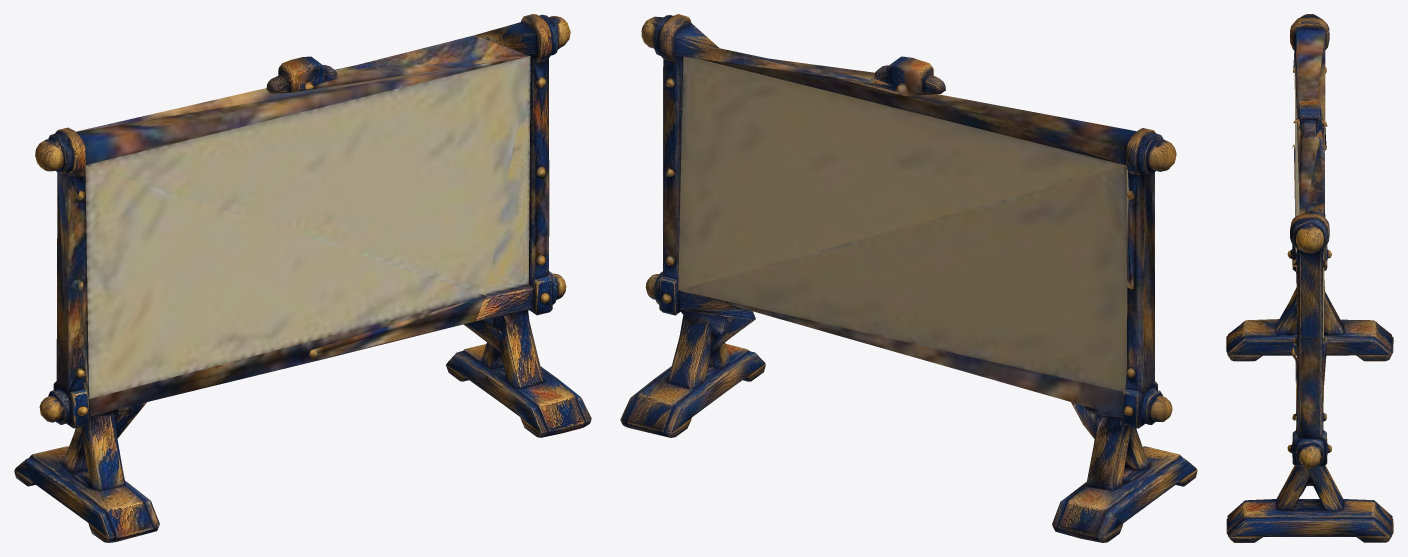
Rendered from scherm3d.glb.
The picture shows the model from 3 angles, left to right: view 1: azimuth 30°, elevation 25°; view 2: azimuth 150°, elevation 25°; view 3: azimuth 270°, elevation 25°; orthographic projection. The views are drawn at different scales.
Visible parts, largest first — view 1: mesh_node; view 2: mesh_node; view 3: mesh_node.
Boxes of the visible parts, x1,y1,x2,y2 form: mesh_node: [14, 14, 591, 542]; mesh_node: [620, 14, 1197, 542]; mesh_node: [1226, 14, 1393, 542].
Bounding box in the file's own units: 2 × 1.4 × 0.6352.
1 material, 1 textured.
